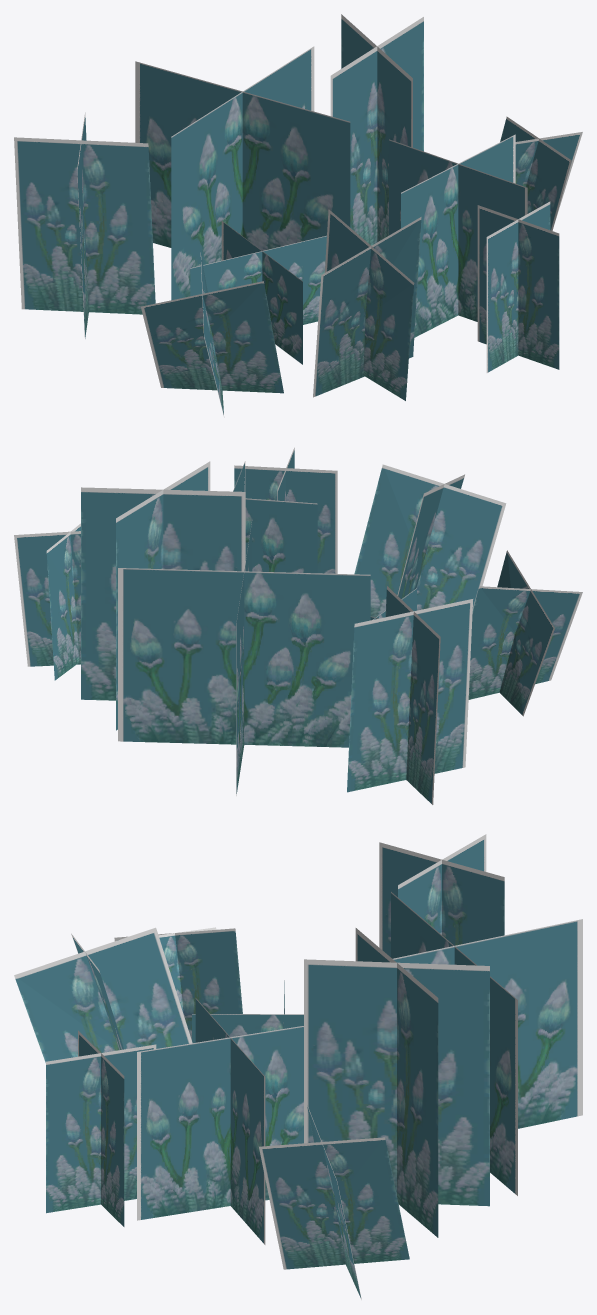
Rendered from cao_3.FBX.
3 views of the same model, one above another, from view 1: azimuth 30°, elevation 25°; view 2: azimuth 150°, elevation 25°; view 3: azimuth 270°, elevation 25° (orthographic). The views are drawn at different scales.
Visible parts, largest first — view 1: UE705; view 2: UE705; view 3: UE705.
Part boxes in pixels (bbox=[...]): UE705: bbox=[14, 14, 582, 417]; UE705: bbox=[14, 447, 582, 804]; UE705: bbox=[14, 834, 582, 1299].
Size of the model in its own units: 290 by 127 by 256.
Materials: 1 (1 with a texture image).
